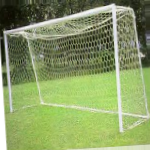goals: (3, 1, 150, 132)
